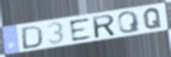3: (45, 21, 66, 46)
D: (21, 24, 44, 50)
E: (68, 17, 94, 43)
Q: (116, 10, 142, 34), (143, 7, 163, 30)
R: (91, 13, 118, 39)
